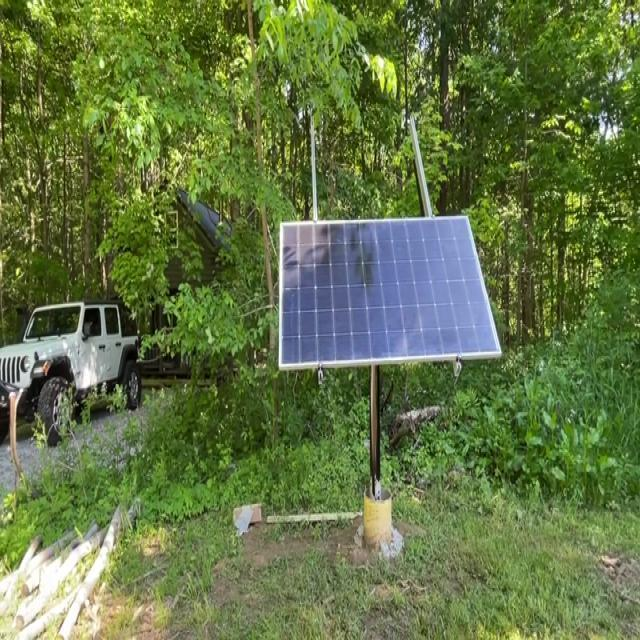Normal Solar Panel: (280, 216, 502, 369)
